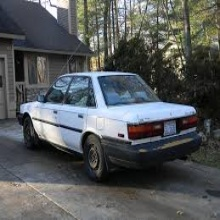no damage: (16, 70, 202, 182)
